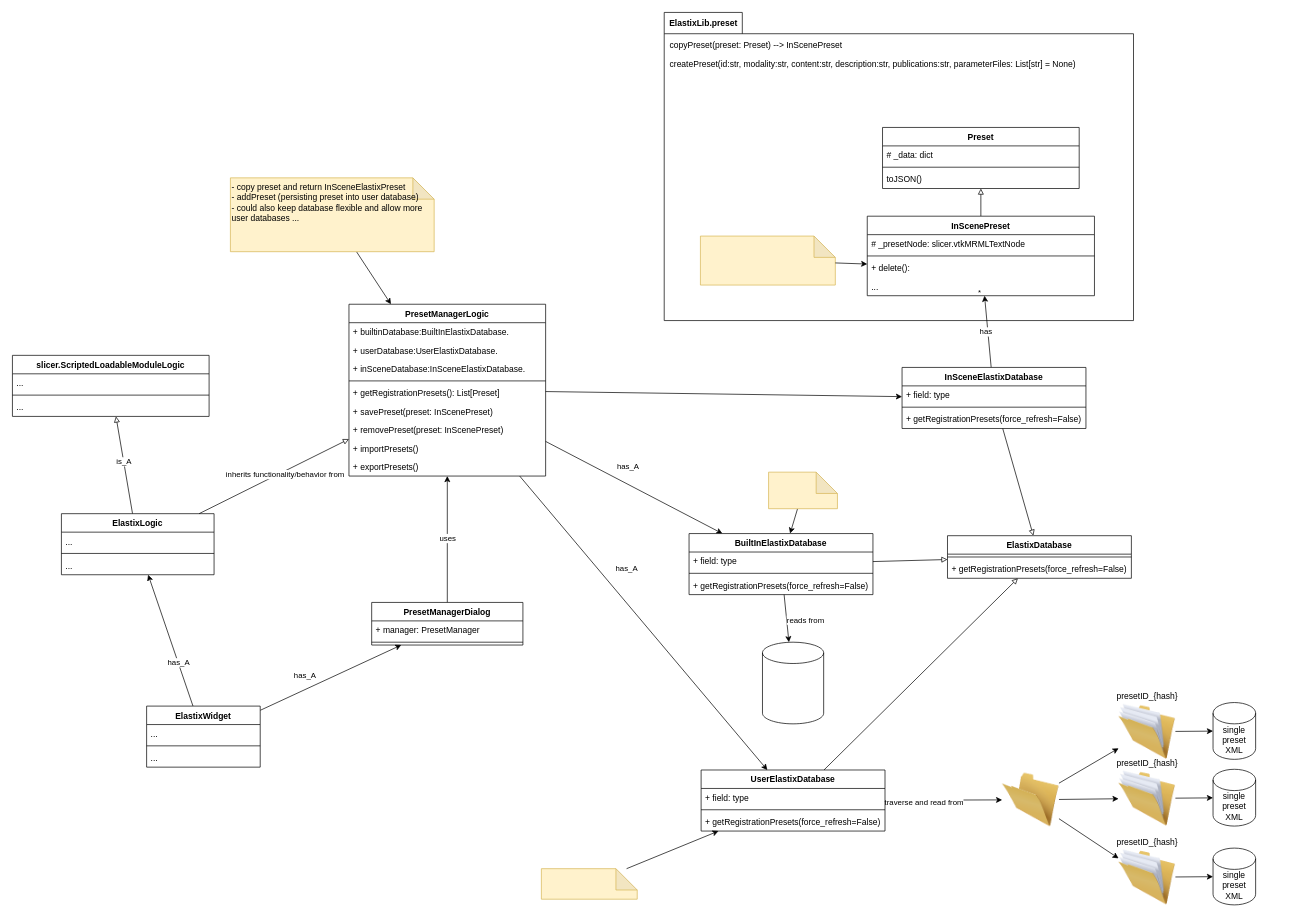
This 1308x918 diagram has some shape labels left out. The shapes that lost their labels are listed below. From the top down, each one's centre as x and y in pixels, then its label:
pixel 767 260: - delete() needs to take care of in scene text node
pixel 802 490: Read
pixel 793 682: default built-in presets xml (readonly)
pixel 1030 799: userSettingPath / "Elastix"
pixel 589 883: Read & Write
